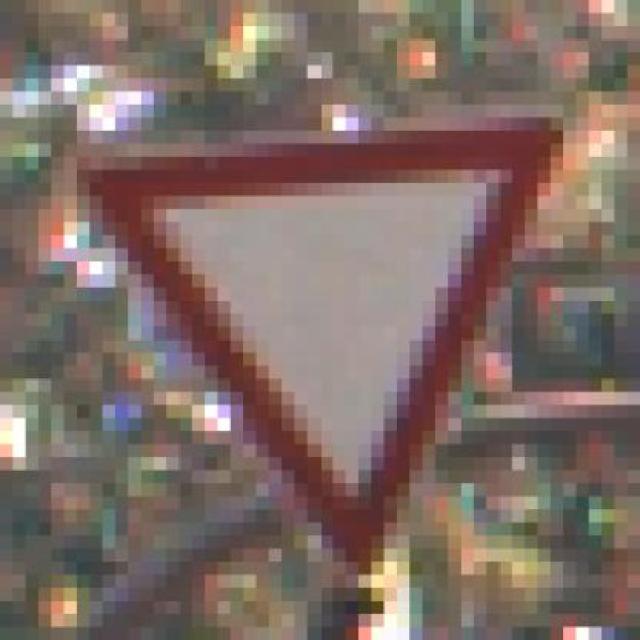Give Way: (38, 103, 576, 574)
